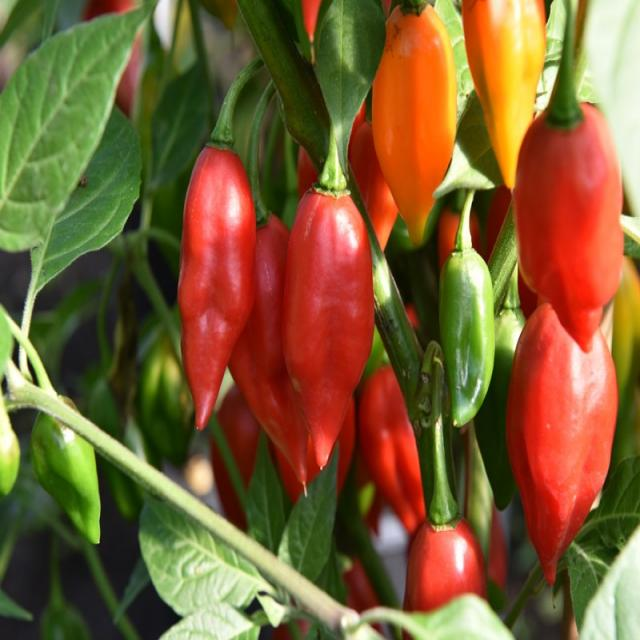chilli: (287, 164, 377, 477), (173, 123, 254, 430)
